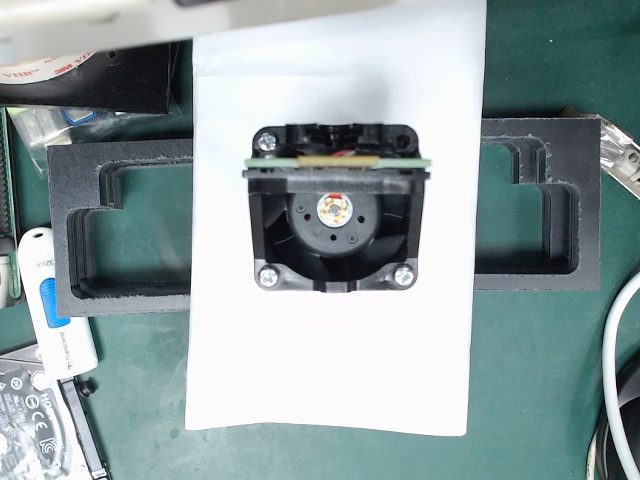Phase1_panel_screw_missing: (381, 138, 438, 201)
